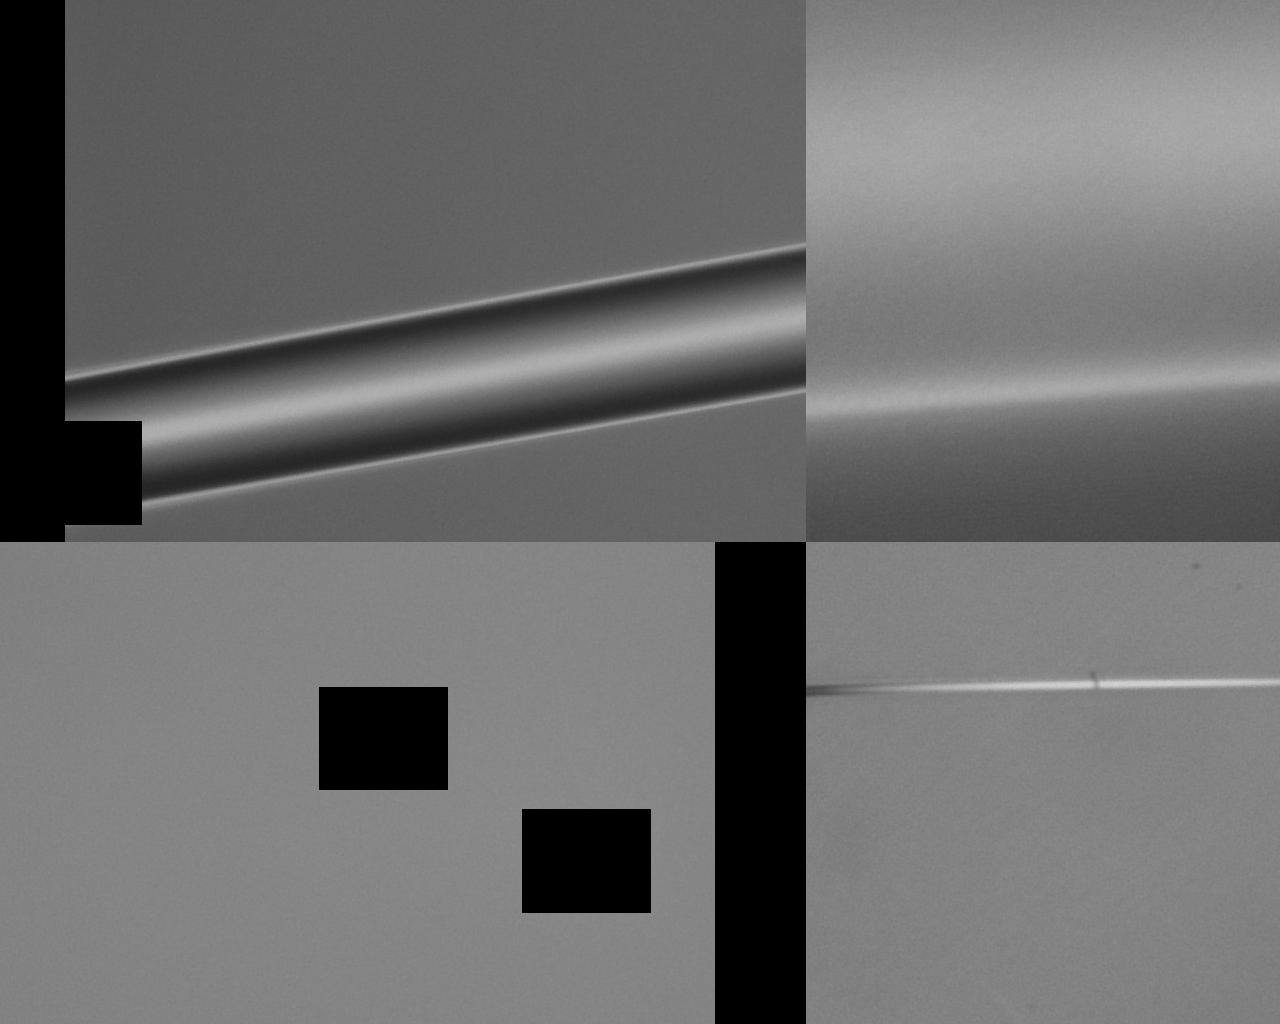fiber: (127, 474, 1151, 619)
